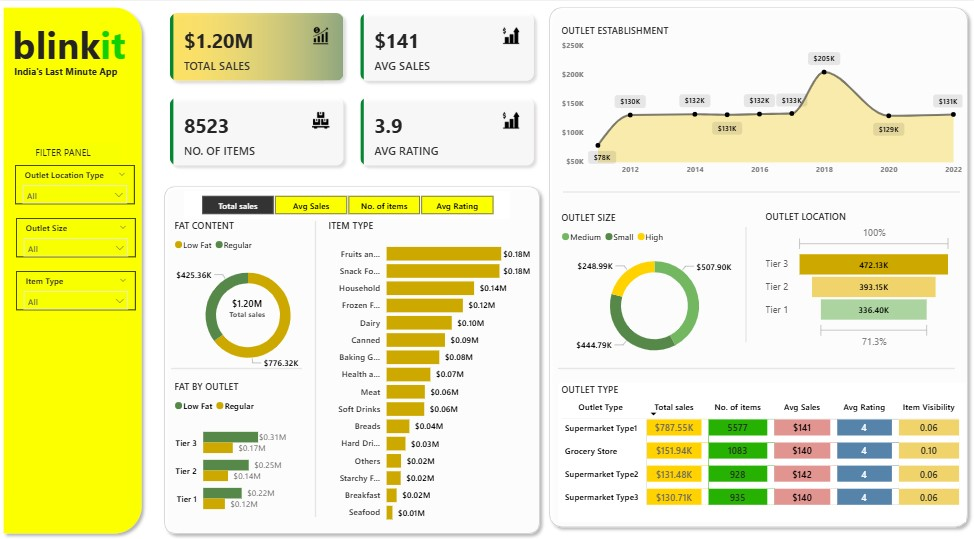

The dashboard page shown, as its layout file describes it:
{"tool":"powerbi","page":{"name":"Page 1","canvas":[1400,800],"ordinal":0},"visuals":[{"type":"shape","box":[0,0,215.7,770],"z":0},{"type":"textbox","box":[0,20,205.7,87.1],"z":1000},{"type":"textbox","box":[0,87.5,196.9,31.2],"z":2000},{"type":"cardVisual","fields":{"Data":["BlinkIT Grocery Data.Total sales","BlinkIT Grocery Data.Avg Sales","BlinkIT Grocery Data.No. of items","BlinkIT Grocery Data.Avg Rating"]},"box":[230,0,555,253.3],"z":4000},{"type":"shape","box":[230,255.7,554.3,514.3],"z":5000},{"type":"donutChart","title":"FAT CONTENT","fields":{"Y":["BlinkIT Grocery Data.Total sales"],"Category":["BlinkIT Grocery Data.Item Fat Content"]},"box":[248.6,311.4,220,230],"z":6000},{"type":"slicer","fields":{"Values":["Metrics.Metrics"]},"box":[267.1,271.4,465.7,40],"z":7000},{"type":"cardVisual","fields":{"Data":["BlinkIT Grocery Data.Total sales"]},"box":[302,400,112,78],"z":8000},{"type":"clusteredBarChart","title":"FAT BY OUTLET","fields":{"Y":["BlinkIT Grocery Data.Total sales"],"Category":["BlinkIT Grocery Data.Outlet Location Type"],"Series":["BlinkIT Grocery Data.Item Fat Content"]},"box":[248.6,541.4,170,207.1],"z":9000},{"type":"shape","box":[248.6,478.6,187.1,92.9],"z":10000},{"type":"shape","box":[435.7,314.3,38.6,422.9],"z":11000},{"type":"barChart","title":"ITEM TYPE","fields":{"Y":["BlinkIT Grocery Data.Total sales"],"Category":["BlinkIT Grocery Data.Item Type"]},"box":[468.6,311.4,298.6,444.3],"z":12000},{"type":"shape","box":[785,10,615,760],"z":13000},{"type":"lineChart","title":"OUTLET ESTABLISHMENT","fields":{"Y":["BlinkIT Grocery Data.Total sales"],"Category":["BlinkIT Grocery Data.Outlet Establishment Year"]},"box":[801.4,32.9,582.9,225.7],"z":14000},{"type":"shape","box":[808.6,235.7,567.1,74.3],"z":15000},{"type":"donutChart","title":"OUTLET SIZE","fields":{"Y":["BlinkIT Grocery Data.Total sales"],"Category":["BlinkIT Grocery Data.Outlet Size","BlinkIT Grocery Data.Item Fat Content"]},"box":[801.4,300,275.7,225.7],"z":16000},{"type":"shape","box":[1052.9,322.9,34.3,164.3],"z":17000},{"type":"funnel","title":"OUTLET LOCATION","fields":{"Y":["Sum(BlinkIT Grocery Data.Sales)"],"Category":["BlinkIT Grocery Data.Outlet Location Type"]},"box":[1092.9,298.6,275.7,202.9],"z":18000},{"type":"shape","box":[801.4,501.4,567.1,47.1],"z":19000},{"type":"pivotTable","title":"OUTLET TYPE","fields":{"Values":["BlinkIT Grocery Data.Total sales","BlinkIT Grocery Data.No. of items","BlinkIT Grocery Data.Avg Sales","BlinkIT Grocery Data.Avg Rating","Avg(BlinkIT Grocery Data.Item Visibility)"],"Rows":["BlinkIT Grocery Data.Outlet Type"]},"box":[801.4,557.1,582.9,198.6],"z":20000},{"type":"slicer","fields":{"Values":["BlinkIT Grocery Data.Outlet Location Type"]},"box":[25.7,234.3,171.4,55.7],"z":21000},{"type":"slicer","fields":{"Values":["BlinkIT Grocery Data.Outlet Size"]},"box":[27.1,310,171.4,55.7],"z":21001},{"type":"slicer","fields":{"Values":["BlinkIT Grocery Data.Item Type"]},"box":[27.1,385.7,171.4,55.7],"z":21002},{"type":"textbox","box":[50,202.9,127.1,31.4],"z":21004}]}

Visuals, with their boxes on the page's 1400x800 design canvas (x1, y1, x2, y2). These are canvas units, not pixel positions in the 974x539 screenshot, which may show the page scaled, cropped or inside an application window:
shape: bbox=[0, 0, 216, 770]
textbox: bbox=[0, 20, 206, 107]
textbox: bbox=[0, 88, 197, 119]
cardVisual - BlinkIT Grocery Data.Total sales x BlinkIT Grocery Data.Avg Sales: bbox=[230, 0, 785, 253]
shape: bbox=[230, 256, 784, 770]
"FAT CONTENT" donutChart: bbox=[249, 311, 469, 541]
slicer - Metrics.Metrics: bbox=[267, 271, 733, 311]
cardVisual - BlinkIT Grocery Data.Total sales: bbox=[302, 400, 414, 478]
"FAT BY OUTLET" clusteredBarChart: bbox=[249, 541, 419, 748]
shape: bbox=[249, 479, 436, 572]
shape: bbox=[436, 314, 474, 737]
"ITEM TYPE" barChart: bbox=[469, 311, 767, 756]
shape: bbox=[785, 10, 1400, 770]
"OUTLET ESTABLISHMENT" lineChart: bbox=[801, 33, 1384, 259]
shape: bbox=[809, 236, 1376, 310]
"OUTLET SIZE" donutChart: bbox=[801, 300, 1077, 526]
shape: bbox=[1053, 323, 1087, 487]
"OUTLET LOCATION" funnel: bbox=[1093, 299, 1369, 502]
shape: bbox=[801, 501, 1368, 548]
"OUTLET TYPE" pivotTable: bbox=[801, 557, 1384, 756]
slicer - BlinkIT Grocery Data.Outlet Location Type: bbox=[26, 234, 197, 290]
slicer - BlinkIT Grocery Data.Outlet Size: bbox=[27, 310, 198, 366]
slicer - BlinkIT Grocery Data.Item Type: bbox=[27, 386, 198, 441]
textbox: bbox=[50, 203, 177, 234]
